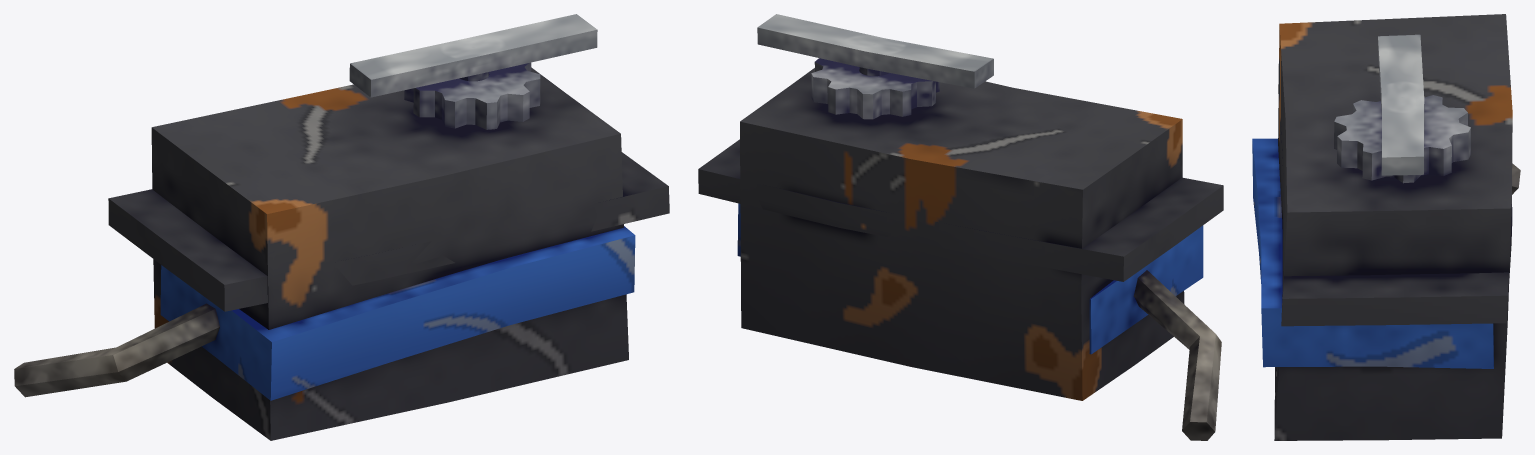
File: ServoMotor.glb
The picture shows the model from 3 angles, left to right: view 1: azimuth 30°, elevation 25°; view 2: azimuth 150°, elevation 25°; view 3: azimuth 270°, elevation 25°; orthographic projection. The views are drawn at different scales.
Parts seen in each view (by area): view 1: Housing, Band, Horn, Wire; view 2: Housing, Horn, Wire, Band; view 3: Housing, Band, Horn.
Boxes of the visible parts, left/top/right/bottom form: Housing: left=108, top=67, right=669, bottom=440; Band: left=160, top=226, right=635, bottom=400; Horn: left=349, top=14, right=597, bottom=129; Wire: left=14, top=303, right=219, bottom=397; Housing: left=698, top=68, right=1223, bottom=400; Horn: left=757, top=14, right=993, bottom=119; Wire: left=1133, top=270, right=1221, bottom=440; Band: left=737, top=203, right=1203, bottom=354; Housing: left=1274, top=14, right=1512, bottom=440; Band: left=1252, top=138, right=1493, bottom=368; Horn: left=1334, top=34, right=1470, bottom=183.
Bounding box in the file's own units: 1.24 × 0.6374 × 0.5128.
Materials: 4 (4 with a texture image).
